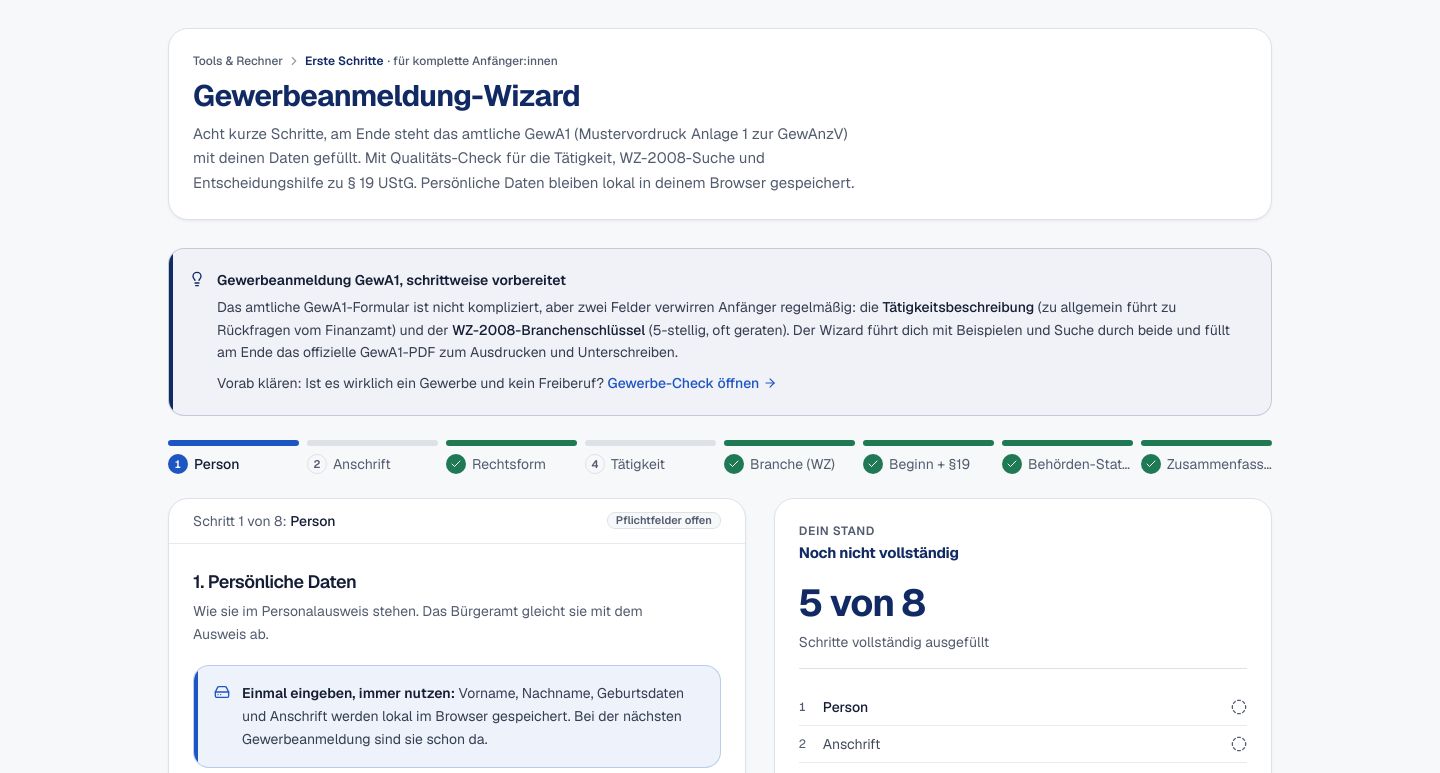
it: GewerbeanmeldungWizard — PDF + Speichern › PDF-Button auf Step 8 (Zusammenfassung) ist disabled bei unvollständigen Steps
Click the button "Zusammenfassung" at (1206, 457), box x1=1141 y1=440 x2=1272 y2=474
(page scrolled)
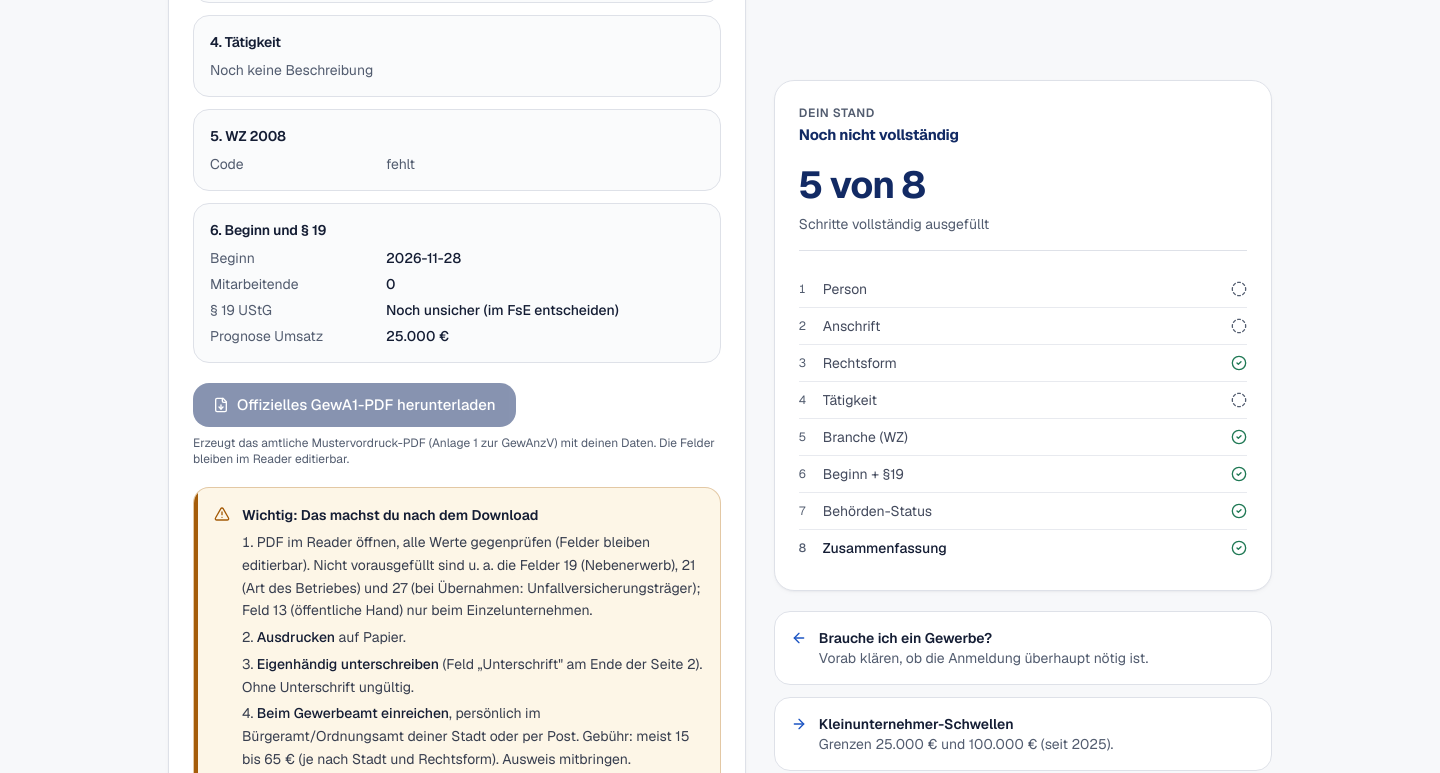
Expected: the button "Offizielles GewA1-PDF herunterladen" is disabled, x1=193 y1=383 x2=516 y2=427
